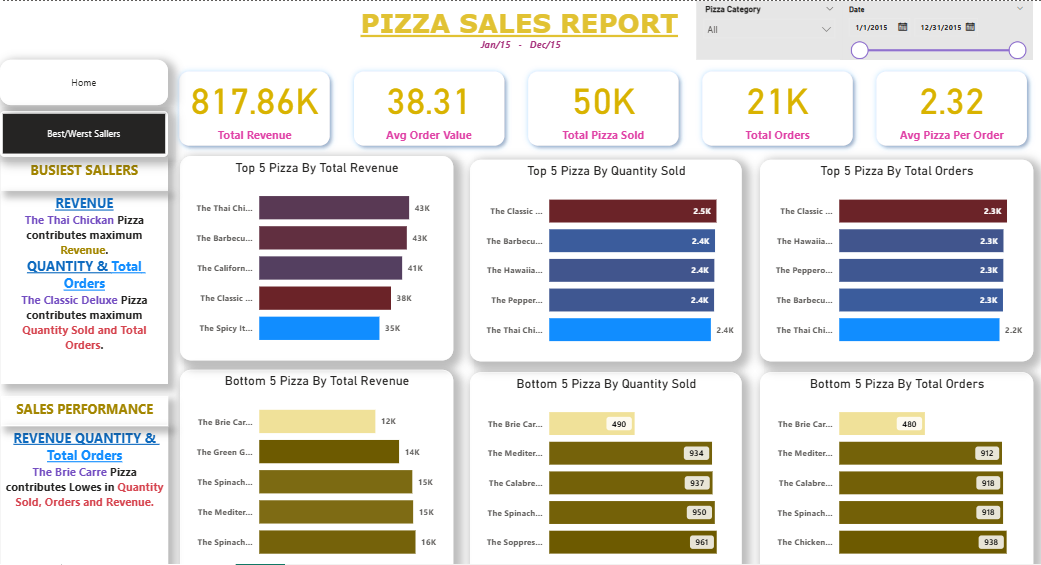

This screenshot's page, from the dashboard's own definition file:
{"tool":"powerbi","page":{"name":"Best/Werst Sallers","canvas":[1490,820],"ordinal":1},"visuals":[{"type":"slicer","fields":{"Values":["pizza_sales.order_date"]},"box":[1200,0,275,83.8],"z":0,"group":"g4"},{"type":"pageNavigator","box":[0,83.2,240,64.6],"z":0,"group":"g5"},{"type":"cardVisual","fields":{"Data":["pizza_sales.Total Revenue","pizza_sales.Avg Order Value","pizza_sales.Total Pizza Sold","pizza_sales.Total Orders","pizza_sales.Avg Pizza Per Order"]},"box":[240,83.8,1247.5,140],"z":0},{"type":"textbox","box":[2.5,222.5,237.5,47.6],"z":0,"group":"g1"},{"type":"textbox","box":[1.2,605.7,238.8,213.1],"z":0,"group":"g2"},{"type":"textbox","box":[490,3,505,60.8],"z":1000,"group":"g3"},{"type":"pageNavigator","box":[0,156.9,240,65.4],"z":1000,"group":"g5"},{"type":"clusteredBarChart","title":"Top 5 Pizza By Total Revenue","fields":{"Category":["pizza_sales.pizza_name"],"Y":["pizza_sales.Total Revenue"]},"box":[258,222,390,292],"z":1000},{"type":"textbox","box":[2.5,270.1,237.5,276.1],"z":1000,"group":"g1"},{"type":"textbox","box":[1.2,565,238.8,43.1],"z":1000,"group":"g2"},{"type":"textbox","box":[628.4,48.1,227,31.9],"z":2000,"group":"g3"},{"type":"group","id":"g1","title":"Group 1","box":[2.5,222.5,237.5,323.8],"z":2000},{"type":"group","id":"g2","title":"Group 2","box":[1.2,565,238.8,253.8],"z":3000},{"type":"group","id":"g3","title":"Group 3","box":[490,3,505,77],"z":4000},{"type":"clusteredBarChart","title":"Top 5 Pizza By Quantity Sold","fields":{"Category":["pizza_sales.pizza_name"],"Y":["pizza_sales.Total Pizza Sold"]},"box":[672,226,388,288],"z":5000},{"type":"clusteredBarChart","title":"Top 5 Pizza By Total Orders","fields":{"Category":["pizza_sales.pizza_name"],"Y":["pizza_sales.Total Orders"]},"box":[1086,226,390,288],"z":6000},{"type":"clusteredBarChart","title":"Bottom 5 Pizza By Total Revenue","fields":{"Category":["pizza_sales.pizza_name"],"Y":["pizza_sales.Total Revenue"]},"box":[257.3,526.5,390,292],"z":7000},{"type":"clusteredBarChart","title":"Bottom 5 Pizza By Quantity Sold","fields":{"Category":["pizza_sales.pizza_name"],"Y":["pizza_sales.Total Pizza Sold"]},"box":[671.3,530.5,388,288],"z":8000},{"type":"clusteredBarChart","title":"Bottom 5 Pizza By Total Orders","fields":{"Category":["pizza_sales.pizza_name"],"Y":["pizza_sales.Total Orders"]},"box":[1085.3,530.5,390,288],"z":9000},{"type":"group","id":"g4","title":"Group 4","box":[995,0,480,83.8],"z":10000},{"type":"slicer","fields":{"Values":["pizza_sales.pizza_category"]},"box":[995,0,208.8,83.8],"z":10001,"group":"g4"},{"type":"group","id":"g5","title":"Group 5","box":[0,83.2,240,139.1],"z":11000}]}

Visuals, with their boxes in screenshot pixels (x1, y1, x2, y2), scaled from the page's 1490x820 canvas onto the 1041x565 screenshot:
slicer - pizza_sales.order_date: [left=838, top=0, right=1031, bottom=58]
pageNavigator: [left=0, top=57, right=168, bottom=102]
cardVisual - pizza_sales.Total Revenue x pizza_sales.Avg Order Value: [left=168, top=58, right=1039, bottom=154]
textbox: [left=2, top=153, right=168, bottom=186]
textbox: [left=1, top=417, right=168, bottom=564]
textbox: [left=342, top=2, right=695, bottom=44]
pageNavigator: [left=0, top=108, right=168, bottom=153]
"Top 5 Pizza By Total Revenue" clusteredBarChart: [left=180, top=153, right=453, bottom=354]
textbox: [left=2, top=186, right=168, bottom=376]
textbox: [left=1, top=389, right=168, bottom=419]
textbox: [left=439, top=33, right=598, bottom=55]
"Group 1" group: [left=2, top=153, right=168, bottom=376]
"Group 2" group: [left=1, top=389, right=168, bottom=564]
"Group 3" group: [left=342, top=2, right=695, bottom=55]
"Top 5 Pizza By Quantity Sold" clusteredBarChart: [left=469, top=156, right=741, bottom=354]
"Top 5 Pizza By Total Orders" clusteredBarChart: [left=759, top=156, right=1031, bottom=354]
"Bottom 5 Pizza By Total Revenue" clusteredBarChart: [left=180, top=363, right=452, bottom=564]
"Bottom 5 Pizza By Quantity Sold" clusteredBarChart: [left=469, top=366, right=740, bottom=564]
"Bottom 5 Pizza By Total Orders" clusteredBarChart: [left=758, top=366, right=1031, bottom=564]
"Group 4" group: [left=695, top=0, right=1031, bottom=58]
slicer - pizza_sales.pizza_category: [left=695, top=0, right=841, bottom=58]
"Group 5" group: [left=0, top=57, right=168, bottom=153]
